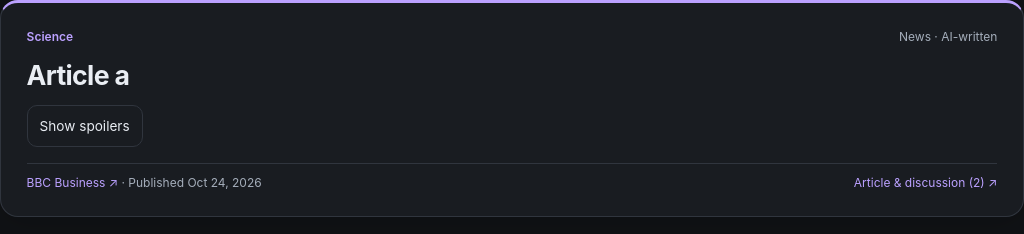
Test: card UI › keeps the original copy, sources and spoiler protection
This screenshot has width=1024, height=234.
Expected: the text "EXACT ORIGINAL SPOILER BODY" is not shown
Click the button "Show spoilers" at (85, 126), box [27, 105, 143, 147]
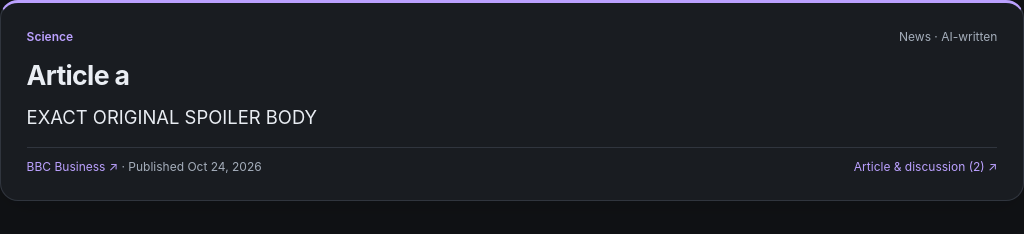
Result: the text "EXACT ORIGINAL SPOILER BODY" is shown at [27, 106, 317, 128]
